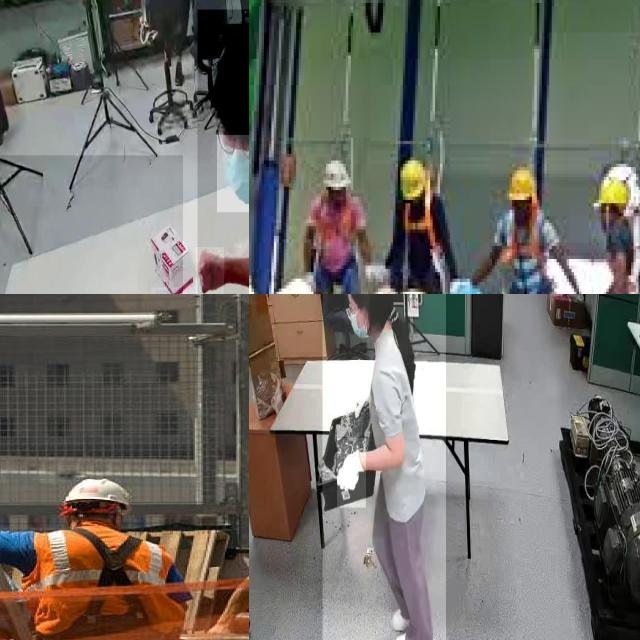Harness: (40, 525, 155, 640), (313, 178, 363, 286), (396, 184, 448, 274), (497, 199, 546, 272), (607, 215, 640, 294)
face_mask: (217, 134, 249, 212), (344, 294, 369, 347)
glasses: (214, 122, 249, 165)
hand_glove: (337, 438, 367, 508)
hand_noglove: (195, 247, 224, 294)
head_nohelmet: (210, 23, 249, 109)
person: (322, 294, 446, 640), (0, 155, 183, 294), (197, 9, 249, 294)
shoes: (388, 600, 418, 634), (173, 58, 188, 86), (390, 632, 433, 640)
